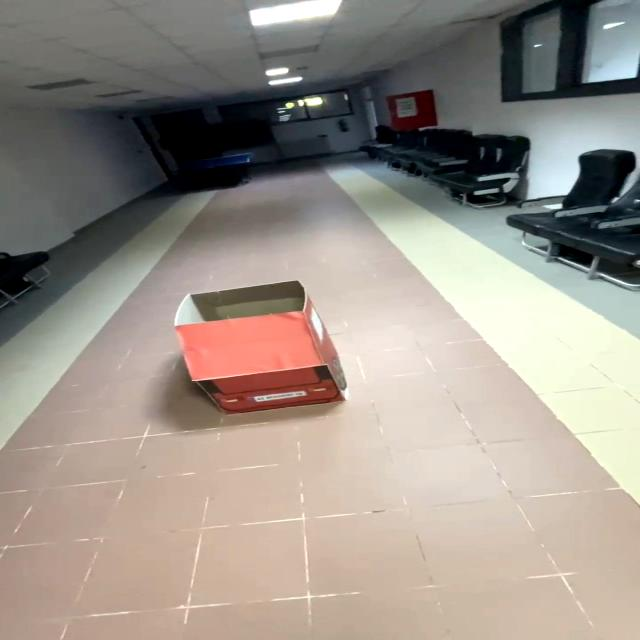red_car: (155, 261, 406, 479)
